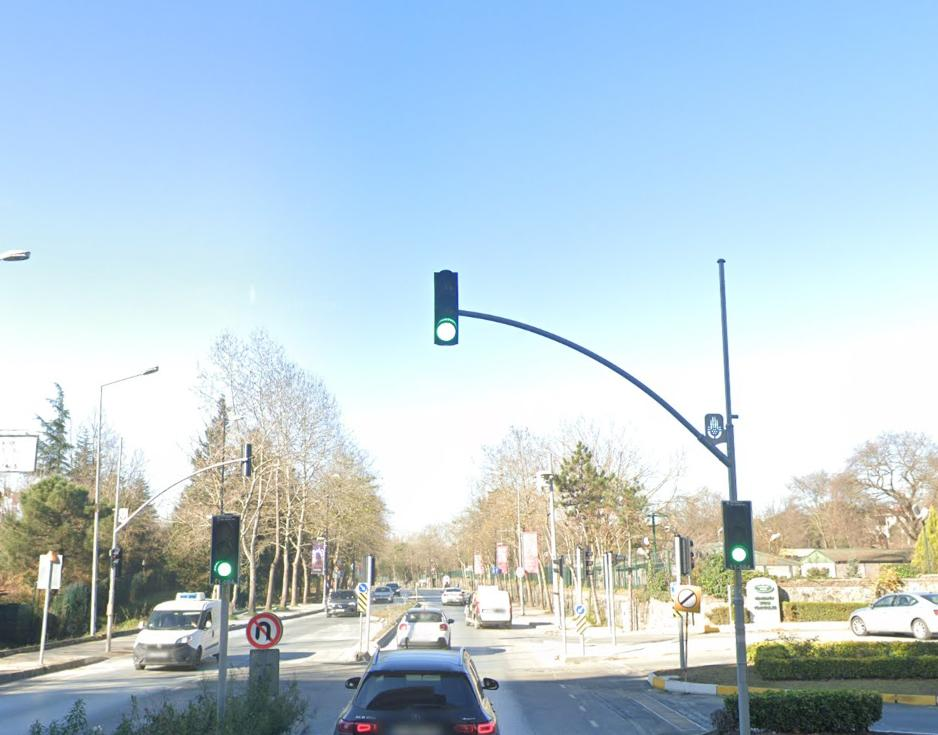greenlight: (436, 273, 459, 344), (725, 501, 750, 564), (214, 516, 237, 580)
